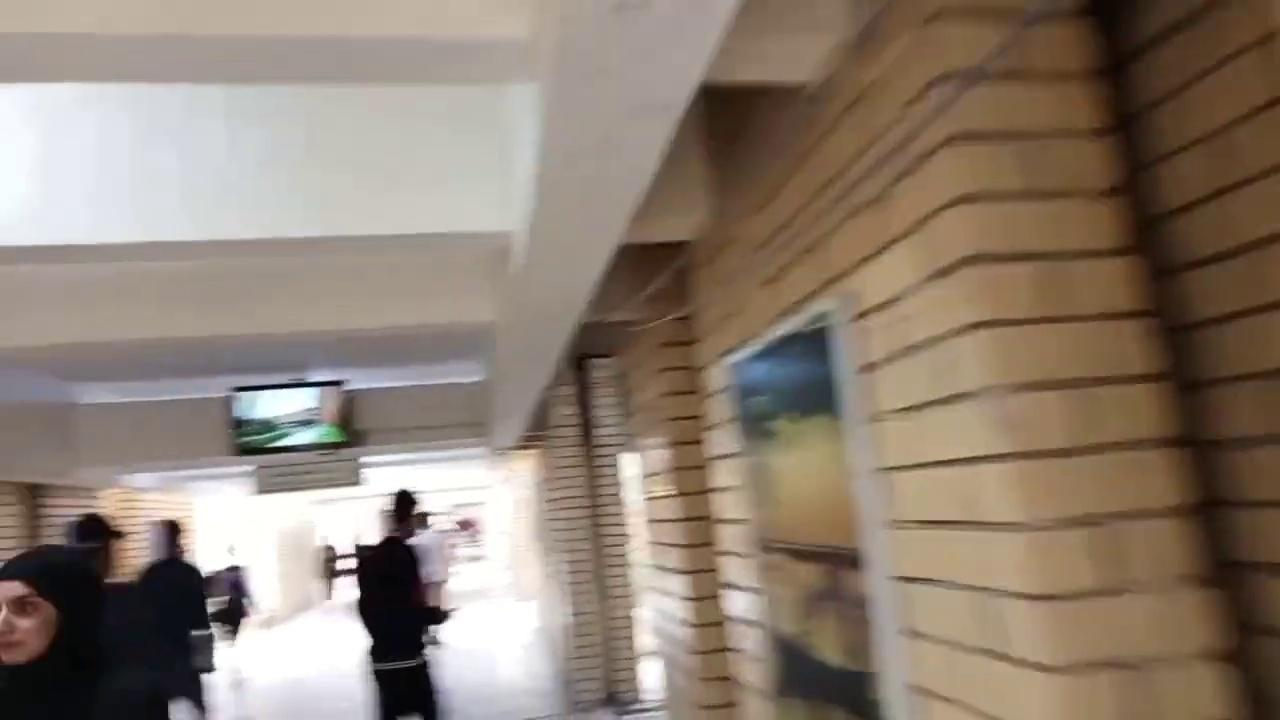person: (355, 488, 453, 719), (0, 544, 109, 719), (133, 518, 214, 719), (406, 510, 450, 645)
